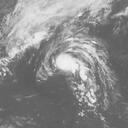cyclone: (41, 36, 108, 87)
